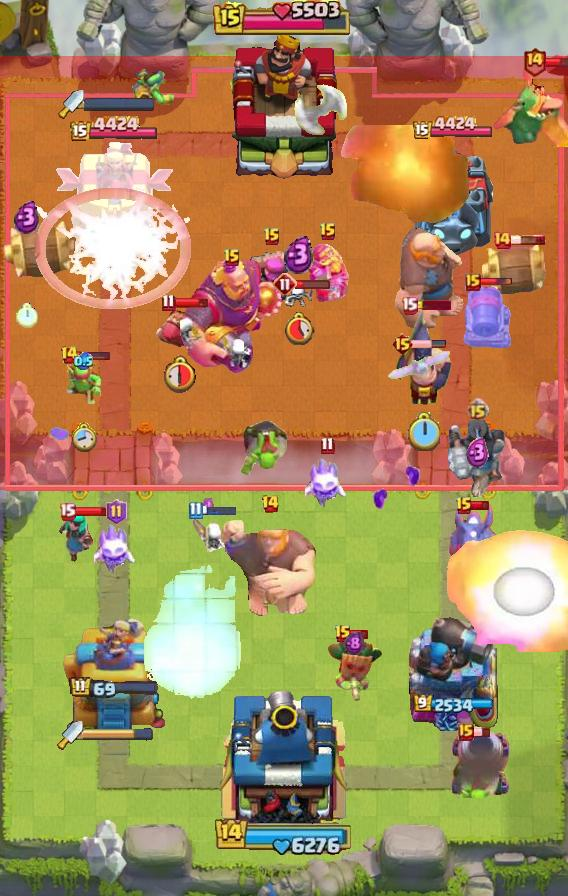axe: (293, 74, 349, 136)
bar: (173, 297, 209, 309), (510, 234, 546, 246), (201, 505, 237, 516), (295, 279, 331, 290), (76, 350, 111, 361), (73, 506, 107, 517), (411, 339, 447, 349), (415, 300, 451, 310), (479, 277, 513, 287), (545, 56, 568, 68), (472, 727, 491, 738), (350, 629, 369, 640), (471, 500, 490, 511)
bar-level: (522, 46, 547, 77), (273, 272, 297, 296), (391, 332, 414, 356), (106, 499, 127, 525), (466, 398, 489, 421), (492, 230, 512, 250), (261, 494, 280, 514), (60, 345, 79, 365), (334, 624, 352, 644), (455, 496, 473, 516), (223, 248, 241, 268), (263, 227, 281, 247), (319, 222, 337, 242), (59, 502, 76, 521), (401, 296, 418, 315), (458, 723, 474, 741), (465, 273, 481, 291), (188, 501, 203, 520), (320, 436, 335, 455), (161, 293, 176, 312)
barbarian-barrel: (0, 218, 84, 280), (479, 243, 553, 295)
bat-evolution: (385, 349, 453, 381)
cannoneer-tower: (407, 611, 499, 731)
clock: (160, 354, 196, 393), (407, 412, 440, 451), (283, 311, 315, 345), (70, 421, 97, 452), (16, 303, 38, 328)
dagger-duchess-tower: (55, 142, 174, 256), (62, 615, 167, 731)
dagger-duchess-tower-bar: (84, 97, 156, 111), (83, 728, 153, 742)
dart-goblin: (324, 636, 384, 704)
electro-dragon: (447, 502, 501, 574)
elixir: (284, 235, 314, 274), (14, 200, 40, 234), (466, 437, 489, 469), (344, 631, 364, 656), (74, 352, 93, 371), (202, 497, 215, 514)
executioner: (394, 306, 452, 406)
firecracker: (243, 249, 301, 303)
goblin-ball: (240, 417, 290, 477)
ice-spirit-evolution: (94, 520, 138, 574), (305, 454, 349, 508)
king-tower: (214, 684, 354, 826), (222, 31, 346, 181)
king-tower-bar: (214, 816, 354, 856), (213, 0, 355, 38)
knight-evolution: (305, 241, 351, 303)
mortar-evolution: (448, 728, 512, 798)
queen-tower: (410, 145, 496, 256)
rascal-girl: (56, 510, 100, 564)
skeleton: (188, 516, 229, 560), (284, 285, 314, 307)
spear-goblin: (131, 67, 179, 109), (62, 358, 104, 404)
tower-bar: (69, 115, 159, 144), (412, 115, 494, 142), (69, 676, 159, 700), (413, 694, 494, 715)
wizard: (154, 307, 202, 349)
